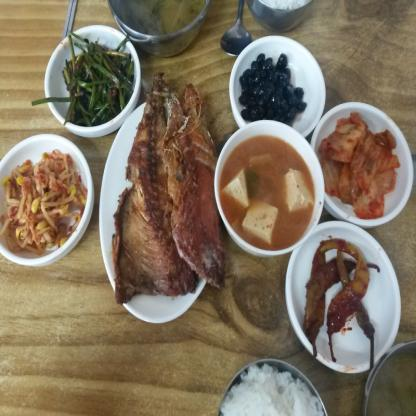Peixe: (113, 85, 226, 324)
